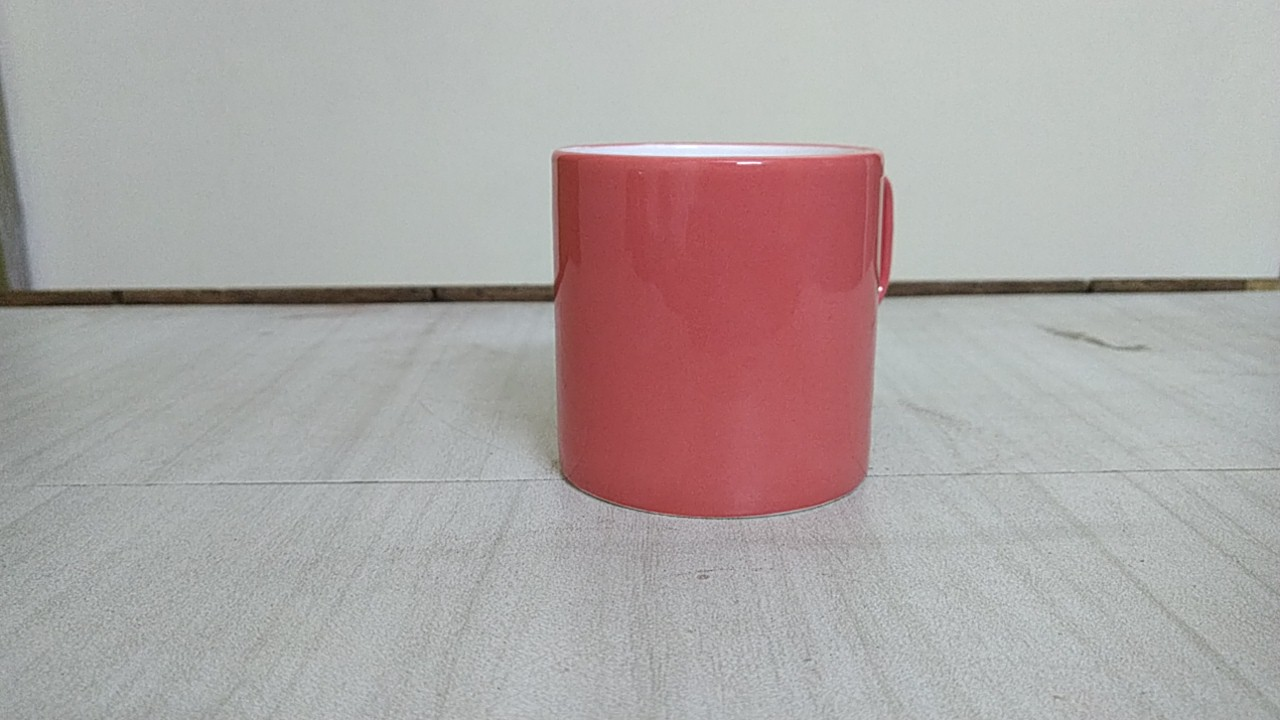cup: (523, 135, 948, 531)
